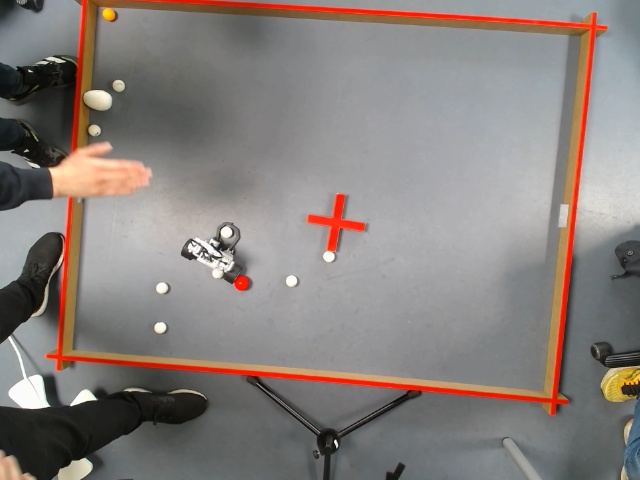cross: (300, 187, 368, 254)
egg: (81, 86, 114, 114)
orange: (101, 8, 119, 22)
robot: (170, 215, 253, 285)
small_goal: (552, 197, 575, 232)
wall: (40, 336, 575, 418), (521, 10, 612, 419), (39, 1, 111, 374), (111, 1, 612, 39)
white: (150, 319, 168, 335), (153, 281, 171, 296), (111, 76, 127, 92), (320, 249, 336, 263), (85, 125, 103, 137), (284, 273, 298, 288), (211, 268, 224, 279), (221, 226, 232, 238)
